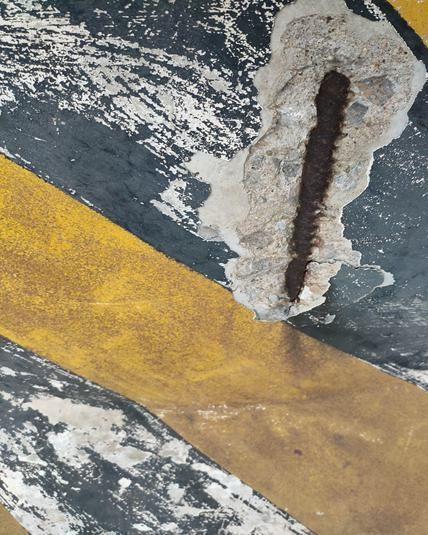Exposed reinforcement: (283, 70, 351, 304)
Spalling: (182, 1, 428, 324)
